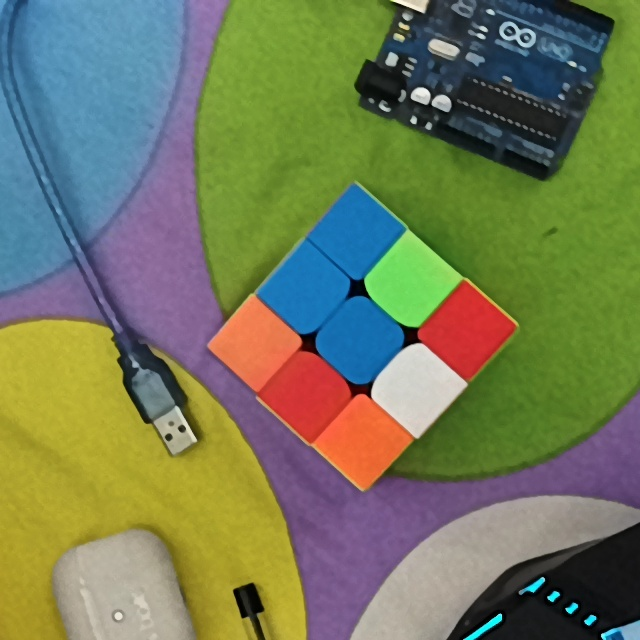tile: (329, 208, 382, 257), (445, 300, 492, 354), (394, 358, 441, 410), (281, 267, 331, 315), (340, 414, 386, 466), (234, 316, 280, 364), (390, 257, 436, 305), (285, 372, 332, 418), (339, 314, 382, 364)
